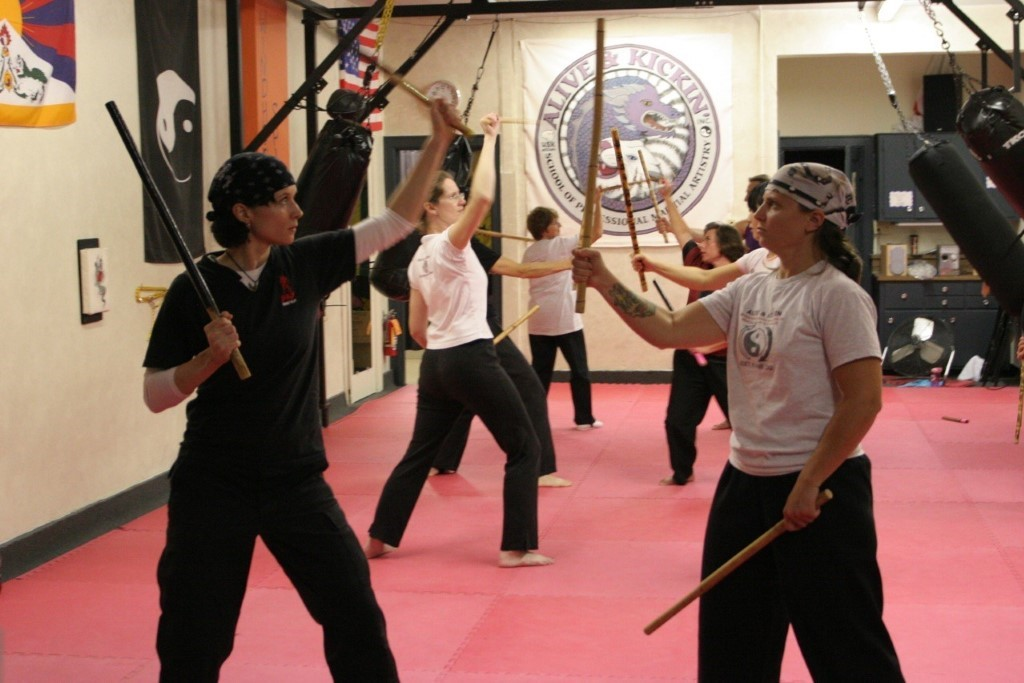baston_e: (105, 114, 246, 370), (314, 18, 467, 127), (578, 27, 605, 308), (609, 134, 647, 286), (651, 285, 707, 363), (638, 154, 668, 239), (492, 307, 533, 348), (476, 226, 532, 242), (597, 179, 644, 196), (1014, 360, 1024, 437), (488, 117, 537, 125)
baston_v: (100, 93, 121, 115), (815, 485, 838, 505), (237, 367, 256, 386), (1008, 434, 1022, 448), (639, 623, 652, 638), (461, 126, 475, 139), (574, 304, 586, 316), (594, 14, 608, 24), (608, 125, 620, 135), (478, 117, 489, 127), (532, 301, 541, 311), (640, 285, 648, 293), (650, 277, 657, 284), (636, 147, 642, 153), (663, 238, 669, 244)
